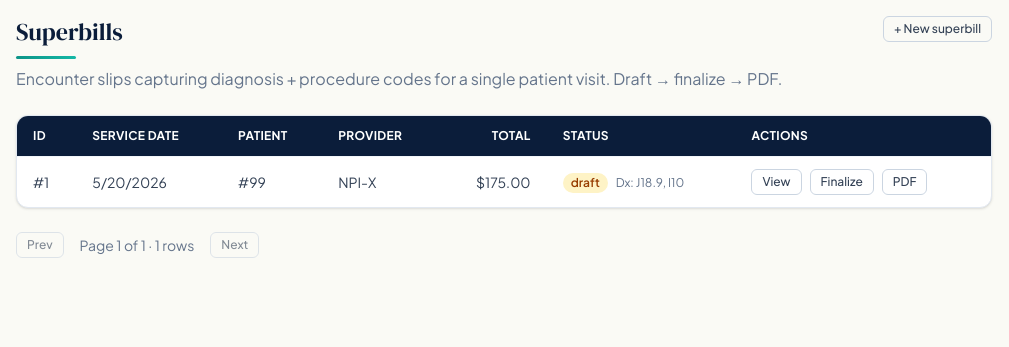
it: SuperbillsPage › finalizes a draft
Expected: the text "#1" is shown, x1=17 y1=156 x2=76 y2=207
Click the button "Finalize" at {"x": 842, "y": 182}, box x1=810 y1=169 x2=874 y2=195
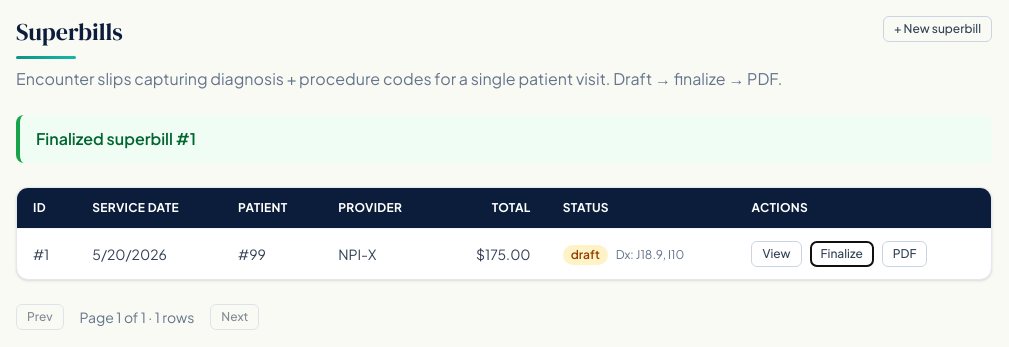
Now the text "Finalized superbill #1" is shown, box x1=16 y1=115 x2=992 y2=163
